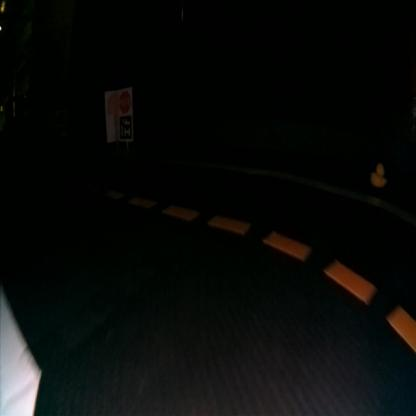Duckie: (370, 164, 388, 186)
QR code: (119, 116, 134, 139)
Stop sign: (119, 88, 132, 112)
